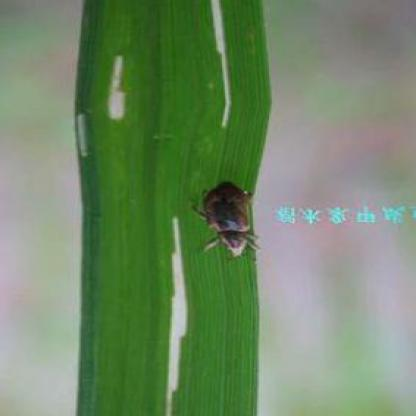rice-bug: (195, 180, 269, 260)
